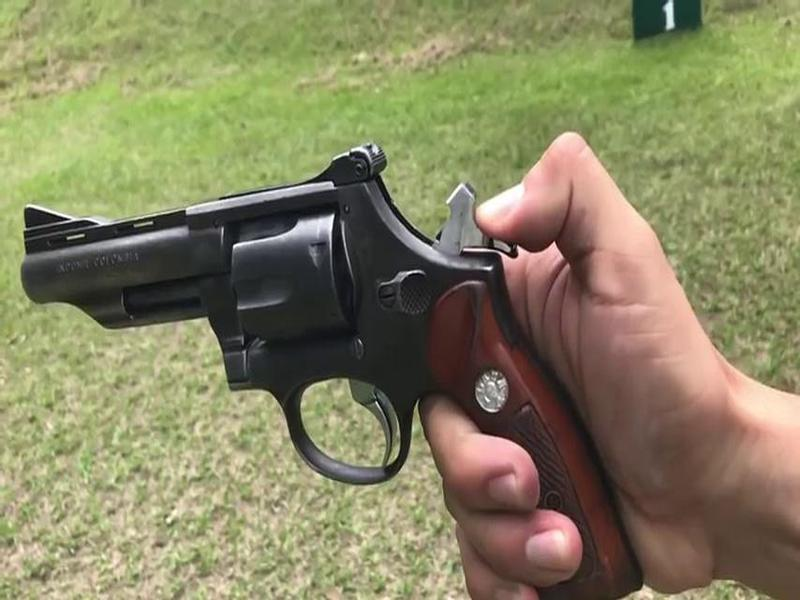Revolver: (8, 136, 527, 503)
